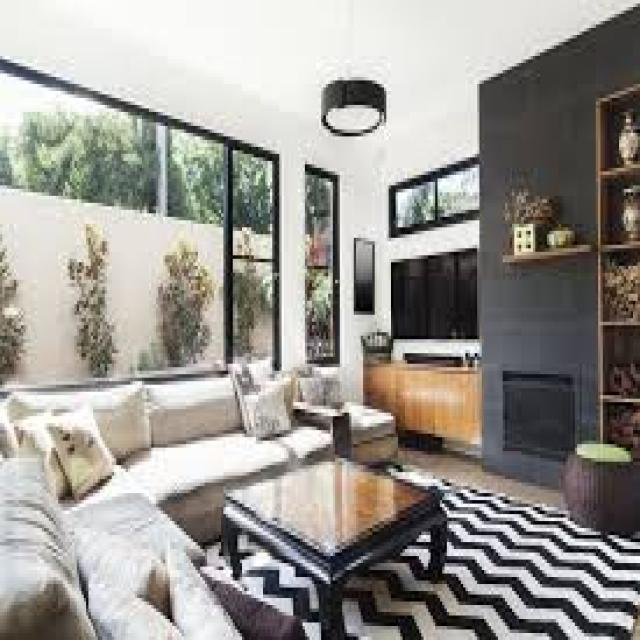Lamp: (314, 50, 393, 146)
Sofa: (0, 373, 406, 640)
Table: (218, 462, 456, 625)
